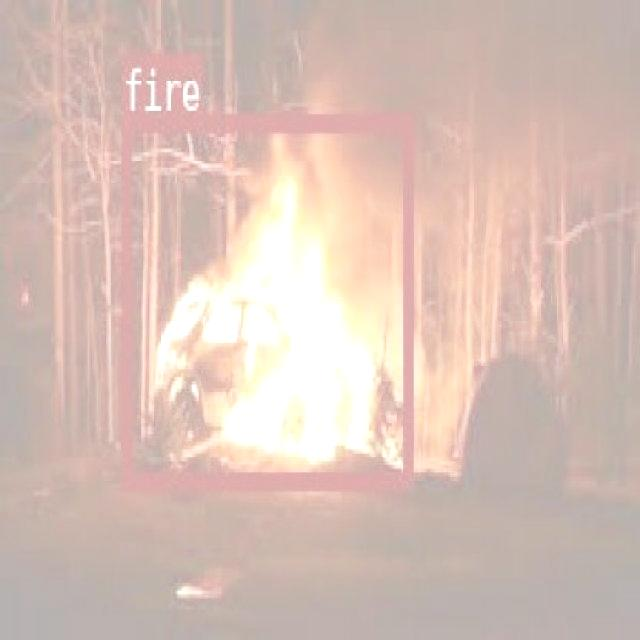fire: (120, 114, 412, 488)
